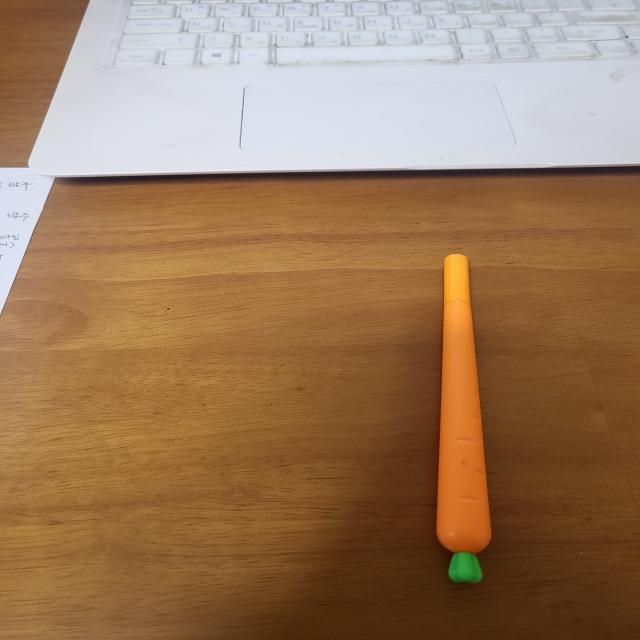carrot: (432, 246, 492, 586)
